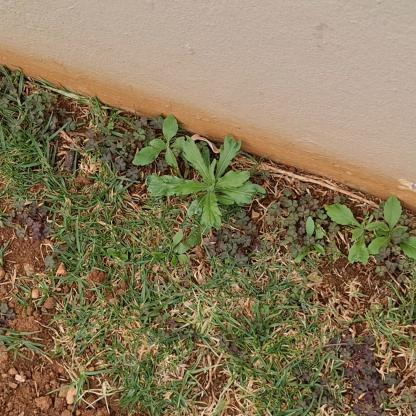Weeds: (144, 133, 267, 229), (322, 202, 388, 264), (136, 112, 196, 169), (366, 193, 415, 262)
